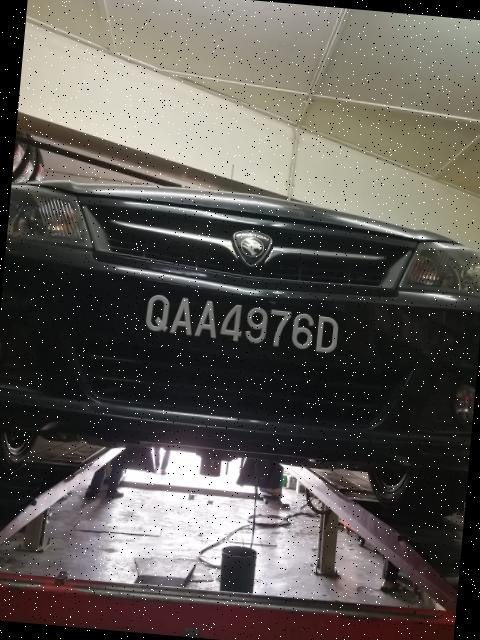License_Plate: (132, 291, 346, 362)
car: (1, 132, 480, 514)
